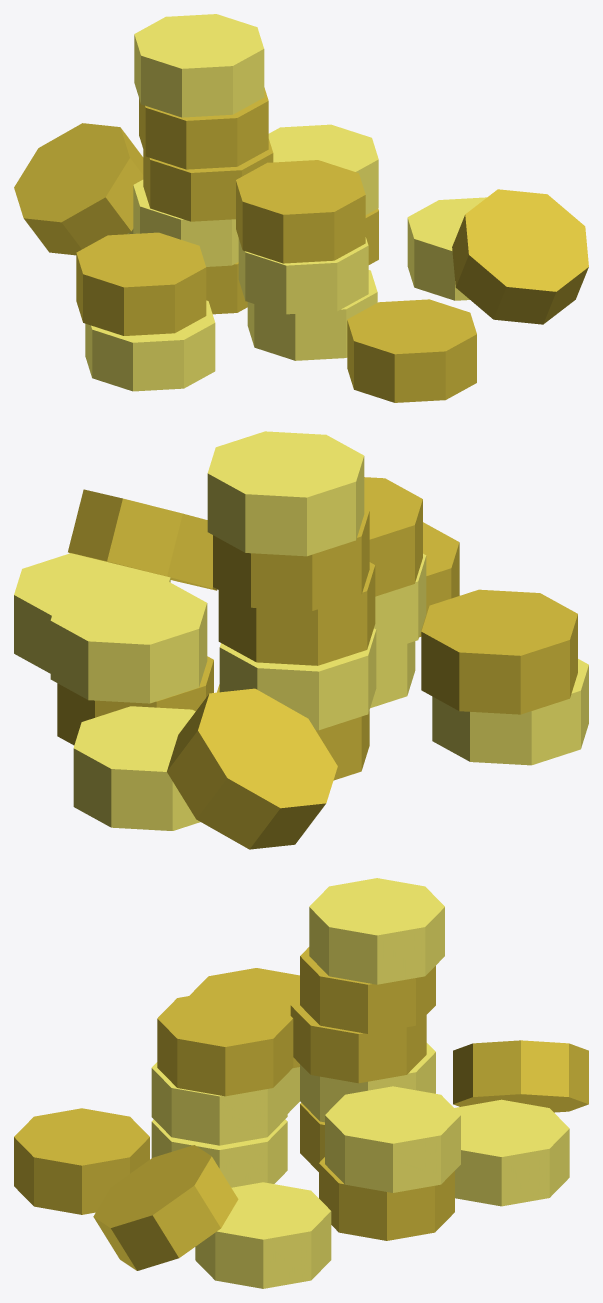
The model's file is Coins.fbx.
3 renders of one model, top to bottom at view 1: azimuth 30°, elevation 25°; view 2: azimuth 150°, elevation 25°; view 3: azimuth 270°, elevation 25°, orthographic. The views are drawn at different scales.
Parts seen in each view (by area): view 1: Cylinder.015, Cylinder.007, Cylinder.014, Cylinder.016, Cylinder.009, Cylinder.011, Cylinder.008, Cylinder.002, Cylinder.012, Cylinder.003, Cylinder.013, Cylinder.010 (+4 smaller); view 2: Cylinder.007, Cylinder.004, Cylinder.016, Cylinder.014, Cylinder.006, Cylinder.015, Cylinder.003, Cylinder.002, Cylinder.008, Cylinder.001, Cylinder.010, Cylinder.011 (+5 smaller); view 3: Cylinder.011, Cylinder.016, Cylinder.004, Cylinder.015, Cylinder.009, Cylinder.010, Cylinder.006, Cylinder.007, Cylinder.002, Cylinder.012, Cylinder.003, Cylinder.005 (+4 smaller).
Part boxes in pixels (x1=…): Cylinder.015: x1=452, y1=189, x2=588, y2=324; Cylinder.007: x1=14, y1=123, x2=143, y2=255; Cylinder.014: x1=76, y1=232, x2=206, y2=335; Cylinder.016: x1=134, y1=14, x2=264, y2=117; Cylinder.009: x1=347, y1=299, x2=476, y2=402; Cylinder.011: x1=236, y1=160, x2=365, y2=263; Cylinder.008: x1=85, y1=300, x2=215, y2=391; Cylinder.002: x1=139, y1=87, x2=268, y2=169; Cylinder.012: x1=238, y1=237, x2=368, y2=314; Cylinder.003: x1=143, y1=139, x2=273, y2=221; Cylinder.013: x1=247, y1=270, x2=377, y2=360; Cylinder.010: x1=407, y1=197, x2=486, y2=300; Cylinder.007: x1=167, y1=688, x2=337, y2=849; Cylinder.004: x1=50, y1=578, x2=207, y2=703; Cylinder.016: x1=207, y1=431, x2=364, y2=556; Cylinder.014: x1=421, y1=589, x2=577, y2=714; Cylinder.006: x1=73, y1=706, x2=200, y2=830; Cylinder.015: x1=68, y1=489, x2=217, y2=590; Cylinder.003: x1=218, y1=562, x2=375, y2=665; Cylinder.002: x1=213, y1=507, x2=369, y2=610; Cylinder.008: x1=432, y1=659, x2=588, y2=765; Cylinder.001: x1=219, y1=628, x2=376, y2=730; Cylinder.010: x1=14, y1=553, x2=170, y2=673; Cylinder.011: x1=364, y1=477, x2=422, y2=596; Cylinder.011: x1=157, y1=989, x2=293, y2=1096; Cylinder.016: x1=309, y1=878, x2=444, y2=984; Cylinder.004: x1=325, y1=1086, x2=460, y2=1192; Cylinder.015: x1=93, y1=1145, x2=238, y2=1270; Cylinder.009: x1=14, y1=1108, x2=149, y2=1214; Cylinder.010: x1=195, y1=1182, x2=331, y2=1288; Cylinder.006: x1=454, y1=1099, x2=569, y2=1206; Cylinder.007: x1=453, y1=1040, x2=588, y2=1112; Cylinder.002: x1=300, y1=947, x2=435, y2=1033; Cylinder.012: x1=151, y1=1062, x2=287, y2=1145; Cylinder.003: x1=290, y1=996, x2=426, y2=1083; Cylinder.005: x1=319, y1=1157, x2=454, y2=1240.
Bounding box in the file's own units: 38.73 × 20.03 × 42.29.
